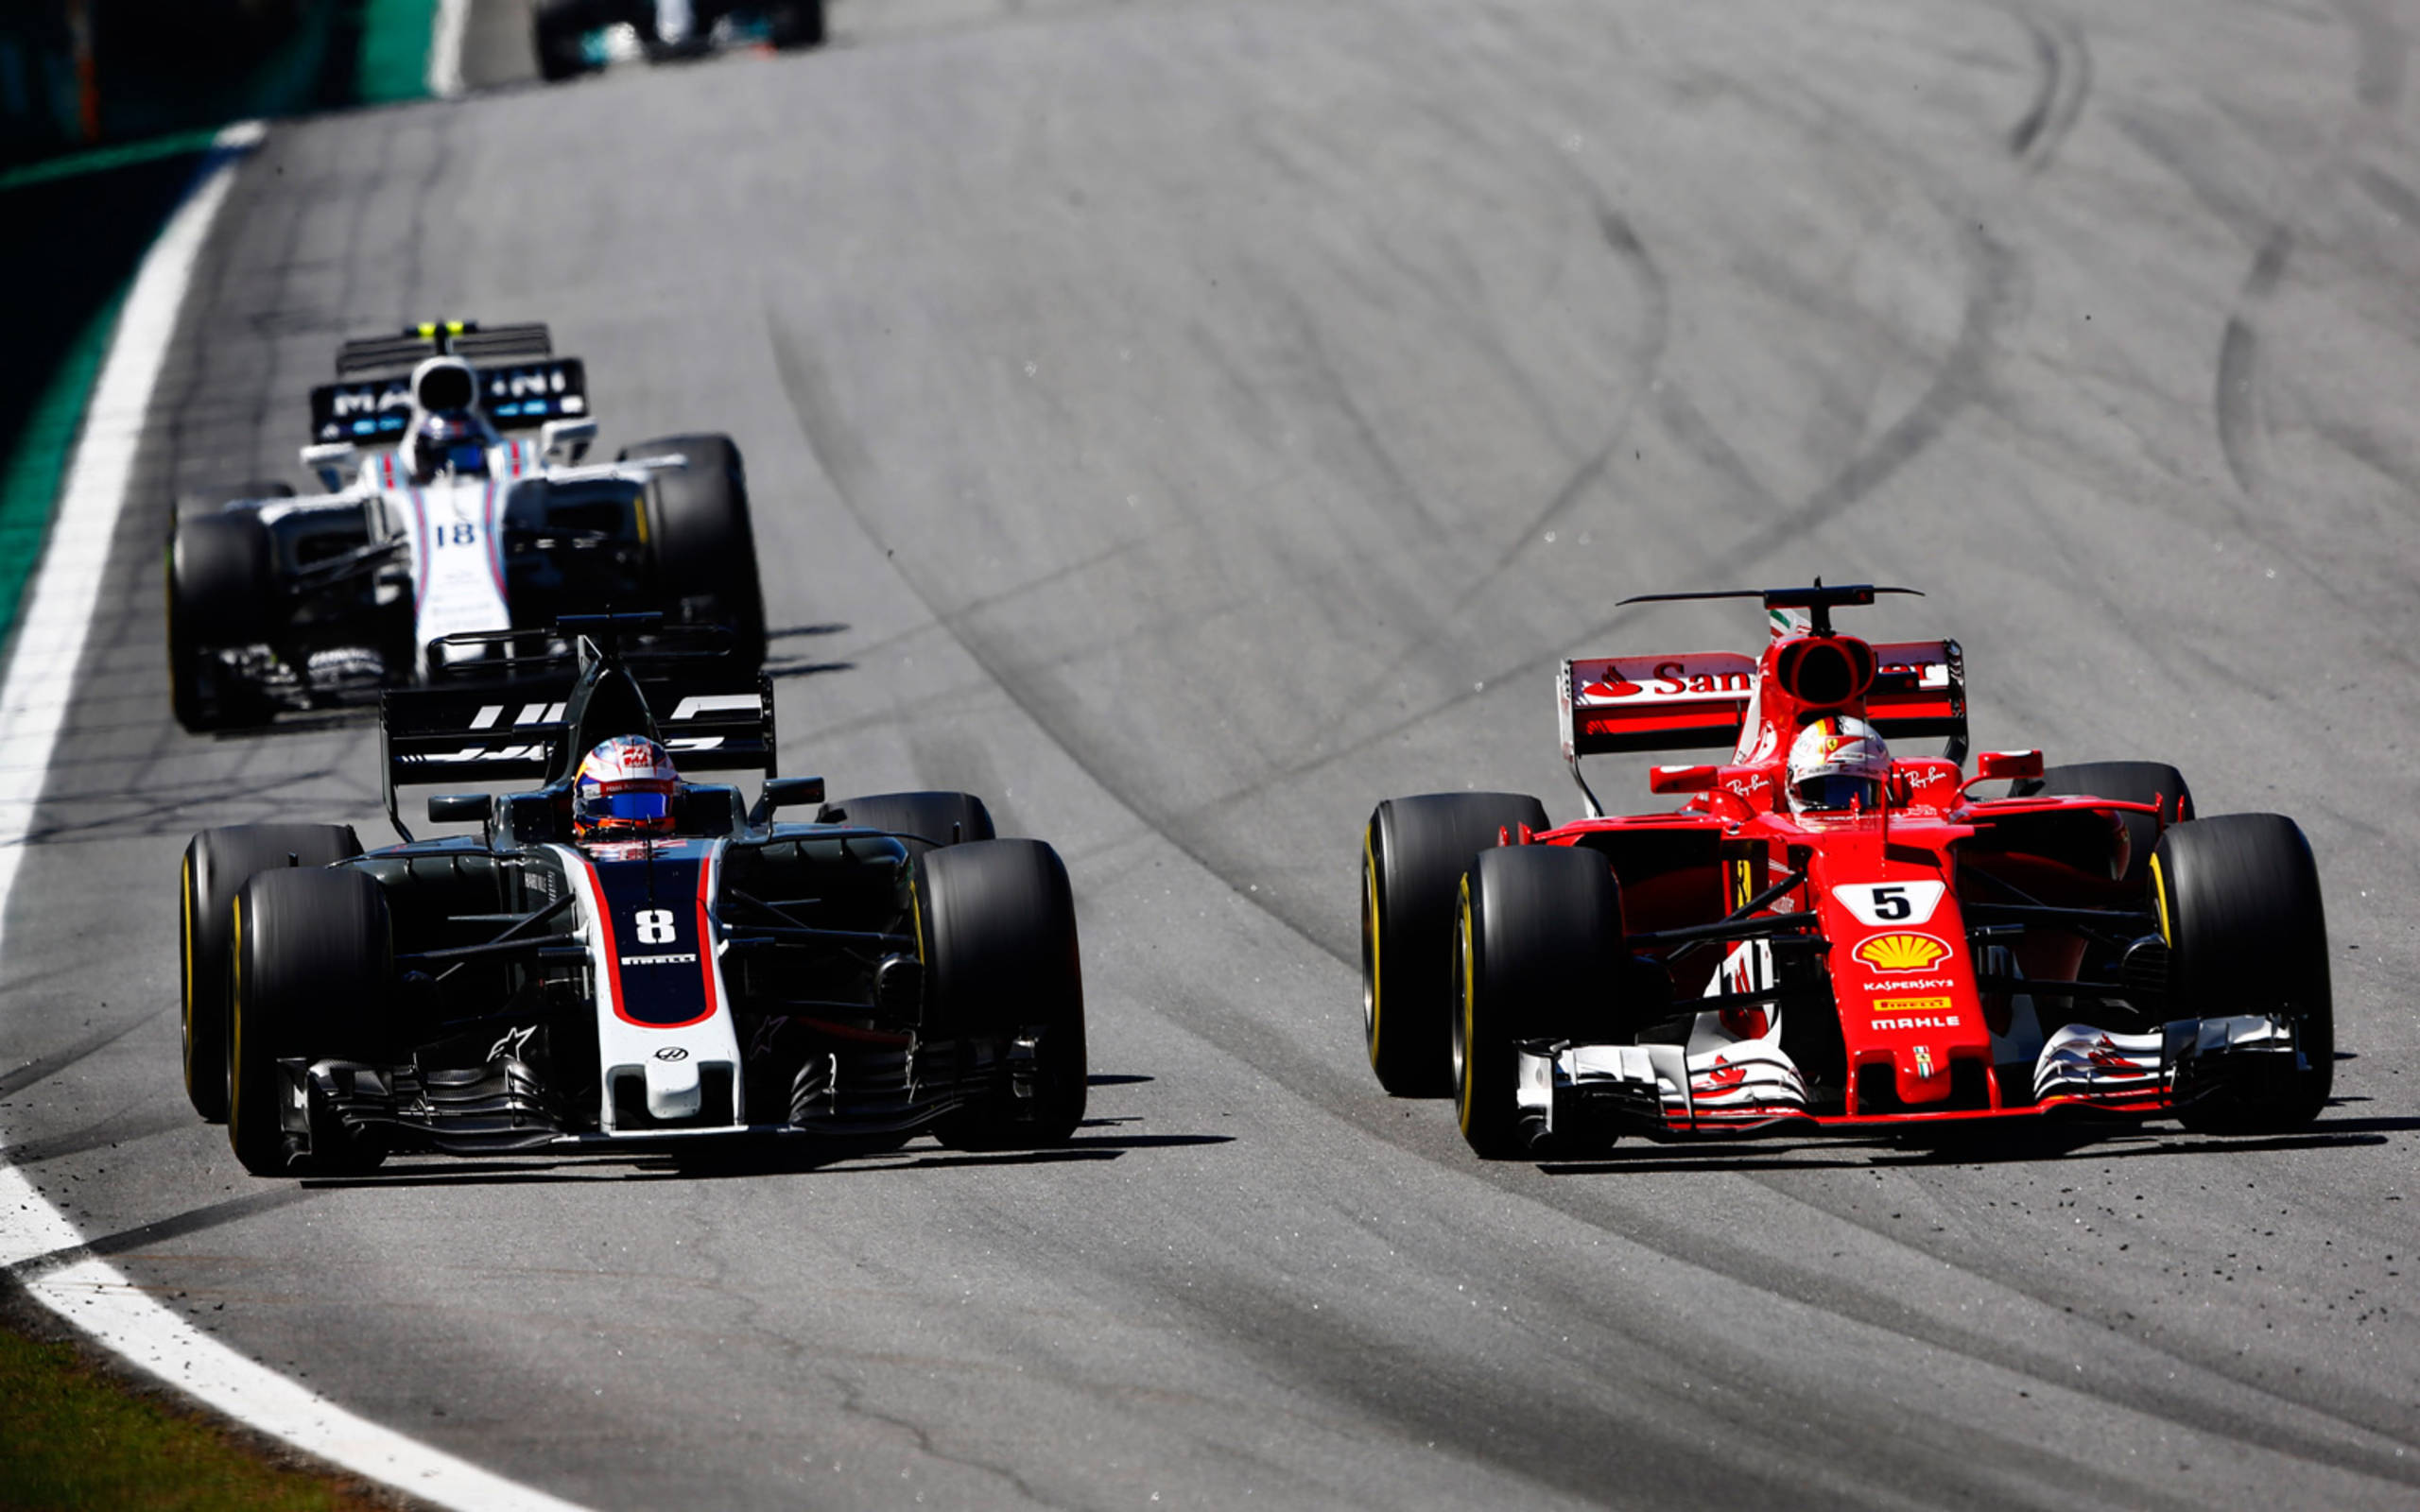f1_car: (1293, 542, 2390, 1181), (153, 608, 1146, 1190), (143, 296, 801, 759)
